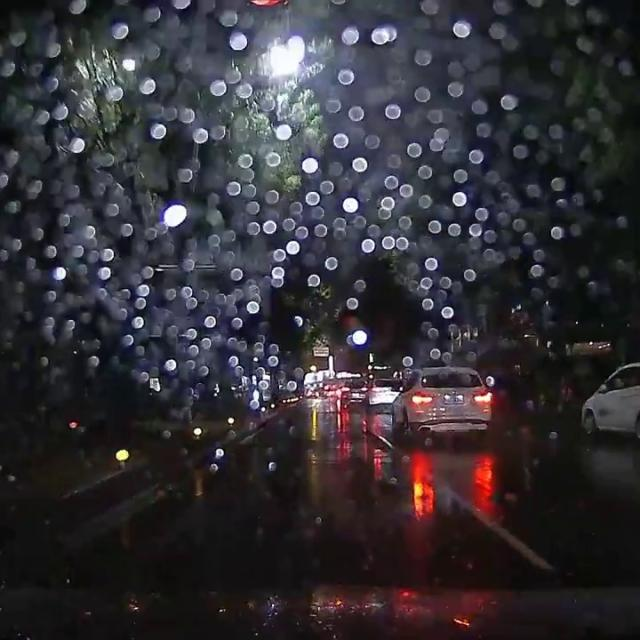Car: (390, 363, 491, 446), (576, 356, 639, 440), (361, 377, 401, 414), (338, 379, 368, 408)
